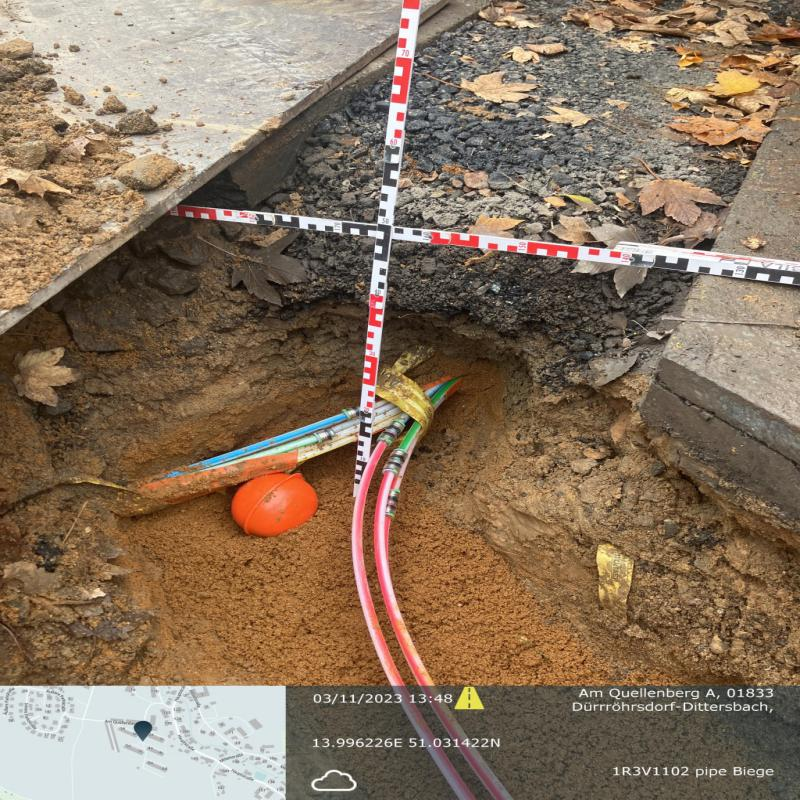Kugelmarker: (229, 471, 321, 540)
Orang-Speednetrohrchen: (127, 412, 347, 511)
